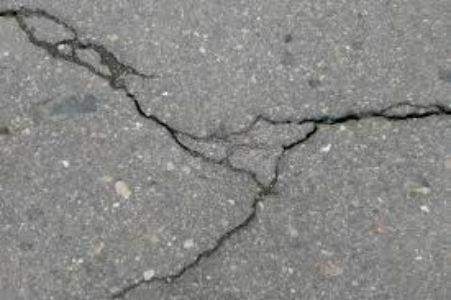crack: (0, 5, 265, 189), (183, 98, 451, 188), (109, 193, 265, 300)
